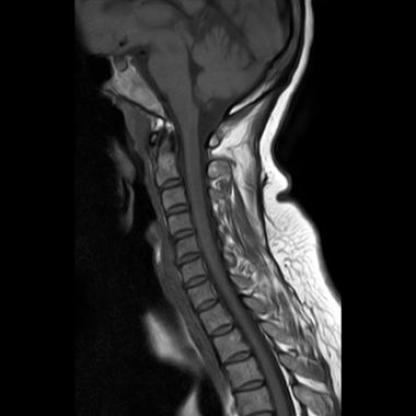Disc Bulgerotation: (181, 273, 211, 291), (176, 250, 204, 266), (171, 227, 196, 244), (164, 202, 189, 218), (158, 177, 184, 191)
Disc Herniationrotation: (194, 300, 221, 311)
